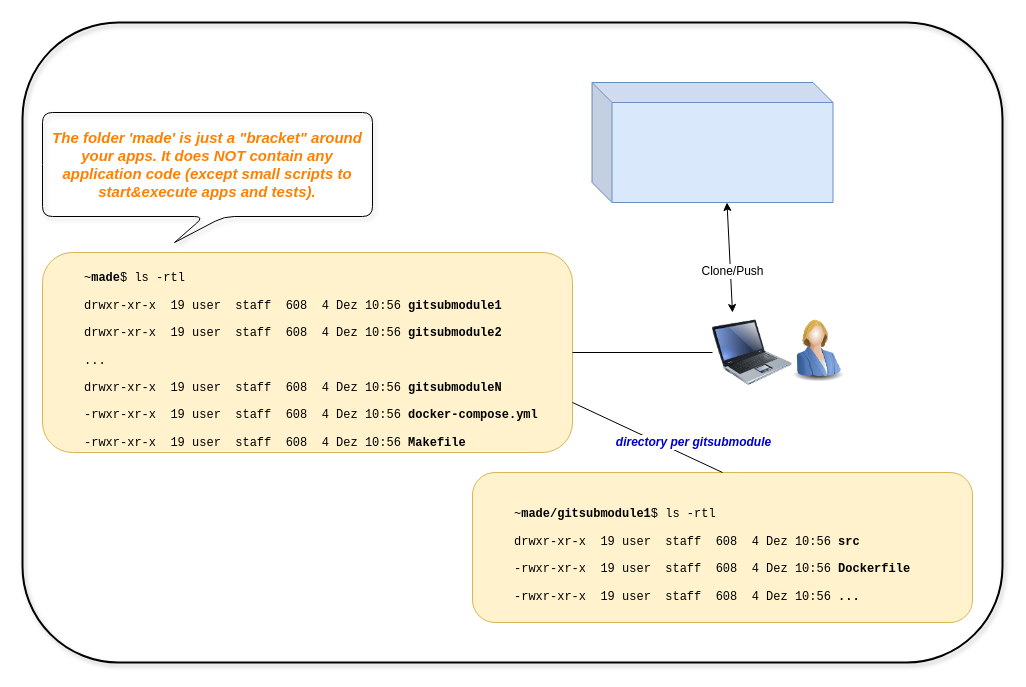
This 1026x687 diagram has some shape labels left out. Each missing label, with the centre of its shape:
Centralized git repo i.e. GitLab, GitHub: the point at 712,142
Software-Developer: the point at 817,347
